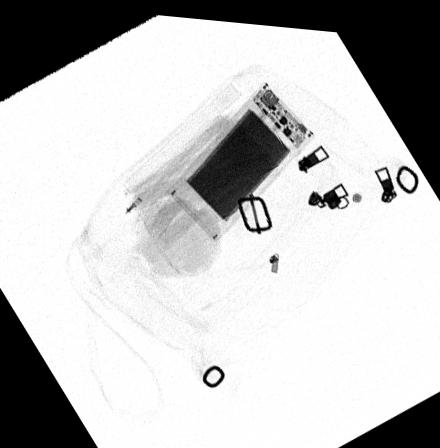Powerbank: (167, 74, 315, 238)
